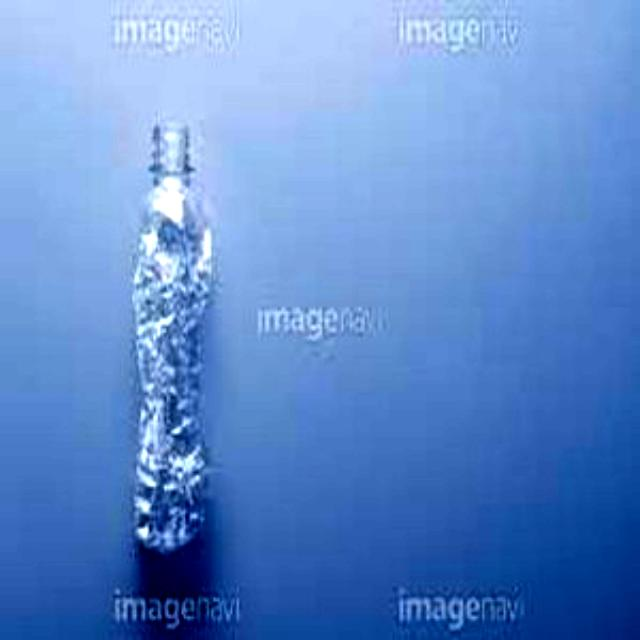Plastic: (129, 123, 221, 557)
